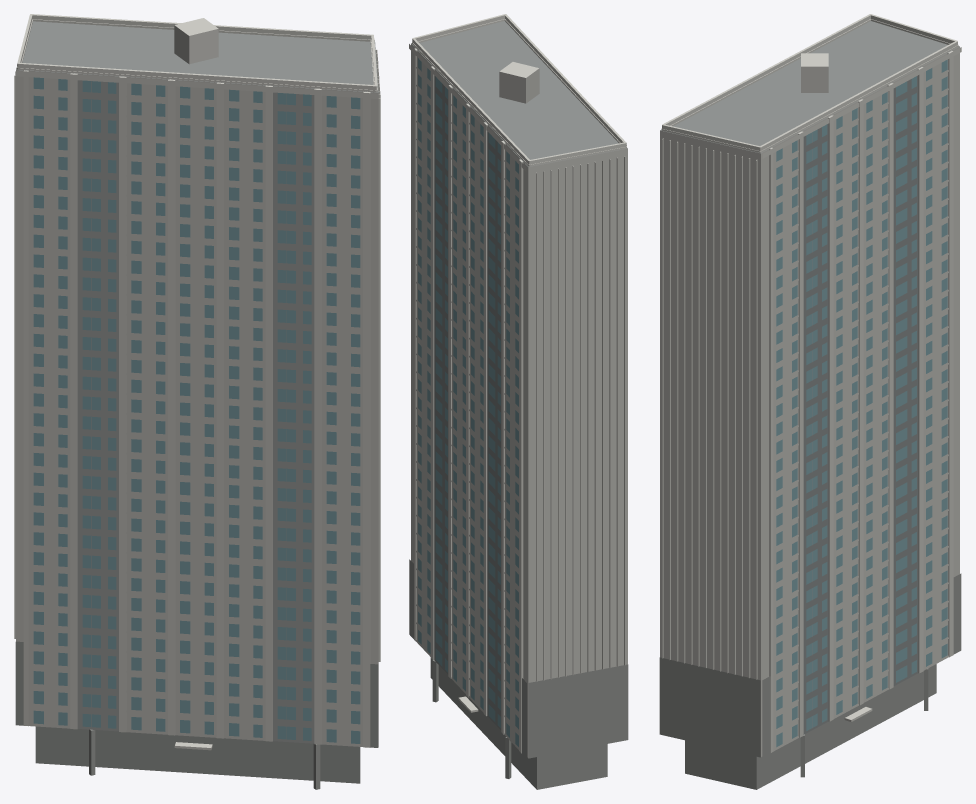
The model's file is maple-xi-114.glb.
3 renders of one model, left to right at view 1: azimuth 30°, elevation 25°; view 2: azimuth 150°, elevation 25°; view 3: azimuth 270°, elevation 25°, orthographic. The views are drawn at different scales.
Parts seen in each view (by area): view 1: maple-xi-114; view 2: maple-xi-114; view 3: maple-xi-114.
Boxes of the visible parts, x1,y1,x2,y2 form: maple-xi-114: [14, 14, 380, 789]; maple-xi-114: [409, 14, 628, 789]; maple-xi-114: [659, 14, 961, 789].
Bounding box in the file's own units: 49.08 × 113 × 46.27.
